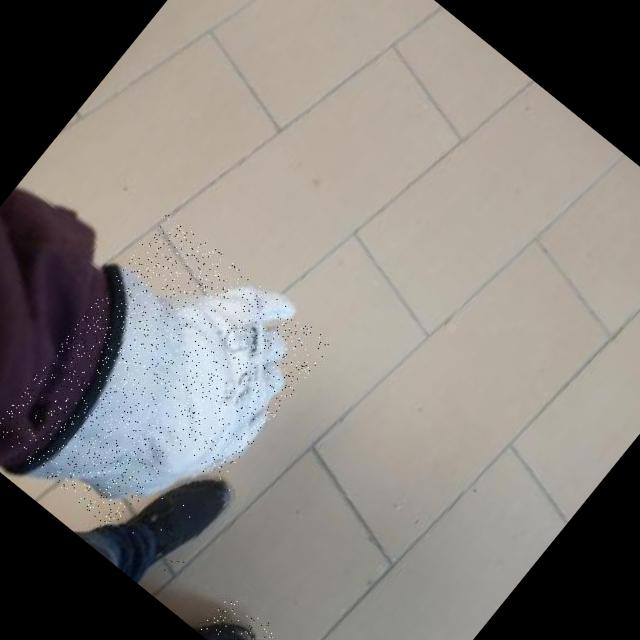work_boots: (98, 447, 240, 596), (197, 591, 281, 640)
